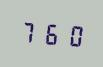seven: (18, 17, 38, 46)
six: (40, 19, 60, 47)
zero: (61, 20, 81, 49)
